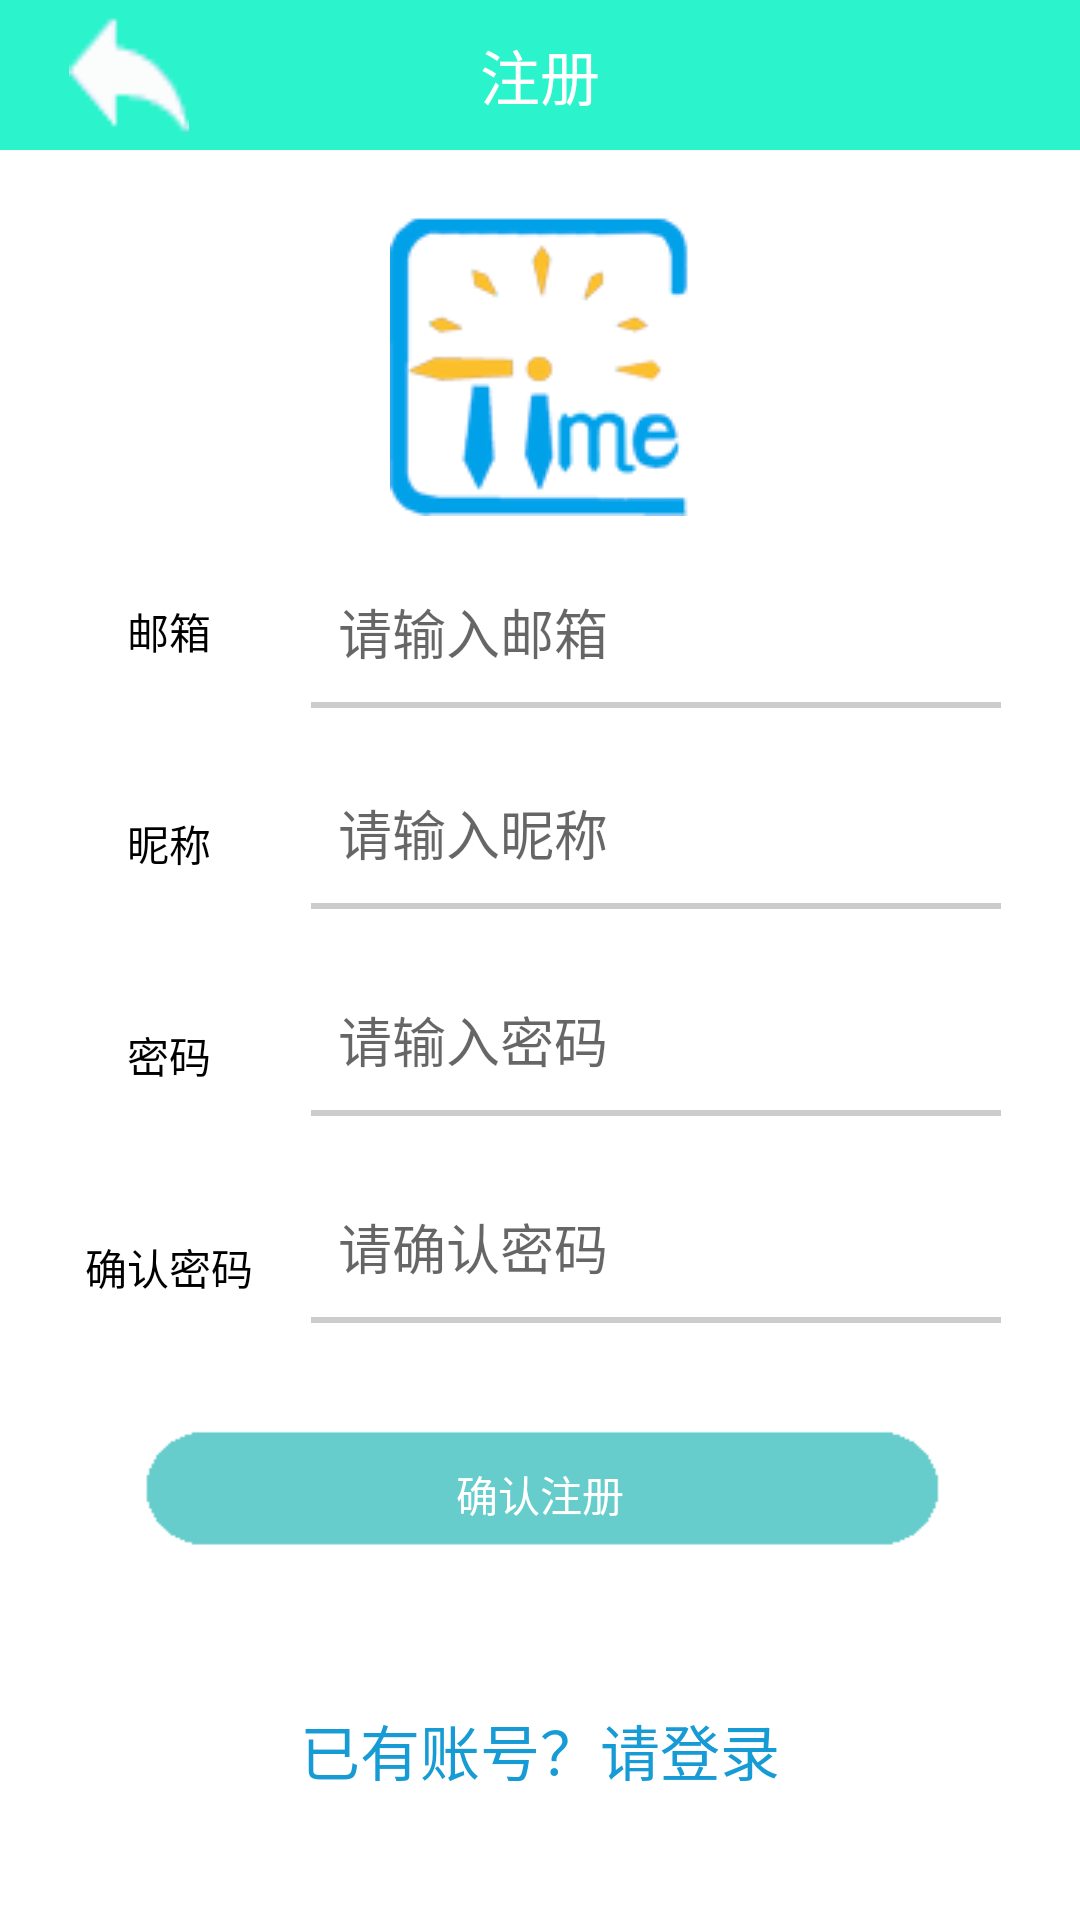

Screen size 1080×1920. Icon name, then its box in pixels as (x1, y1, x2, y2):
back: (69, 18, 189, 135)
